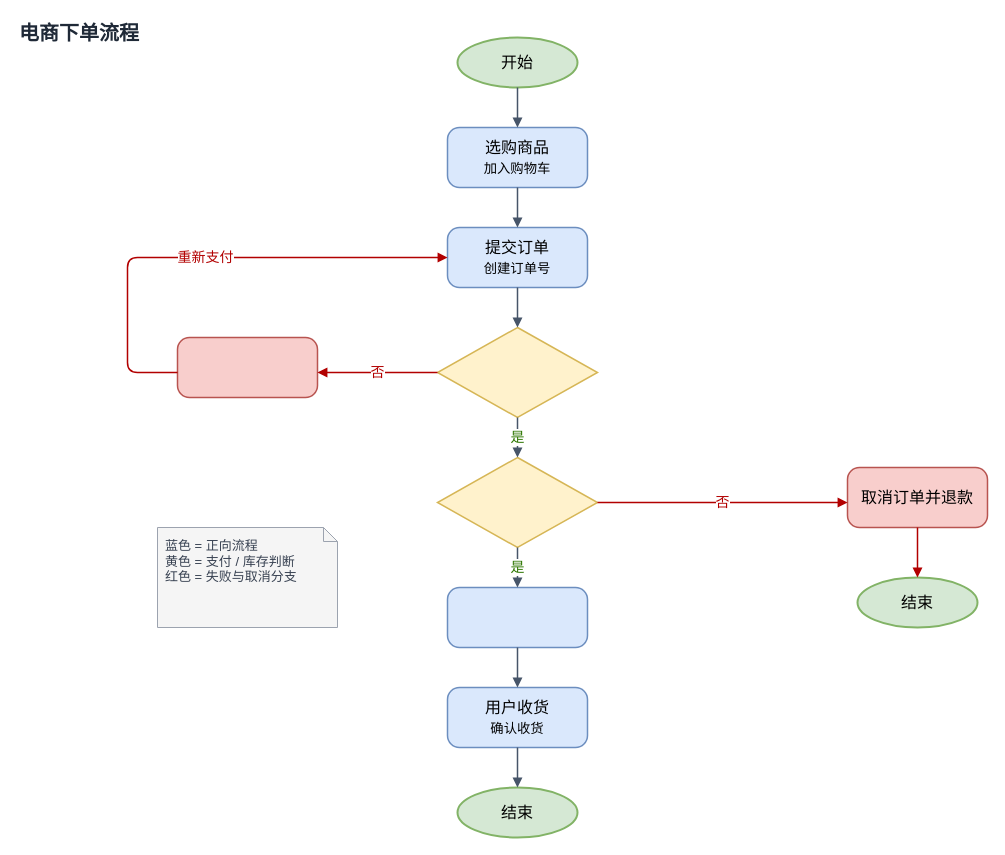
This 1005x855 diagram has some shape labels left out. The centre of each missing label's shape, as x and y in pixels:
"仓库拣货发货" goes at [517,617].
"库存锁定 是否成功?" goes at [517,502].
"支付失败 提示重新支付" goes at [247,367].
"支付是否 成功?" goes at [517,372].
